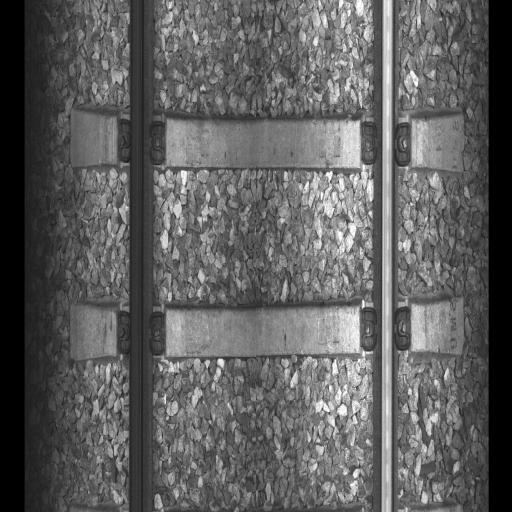sleeper: (69, 106, 465, 181), (68, 300, 466, 359)
